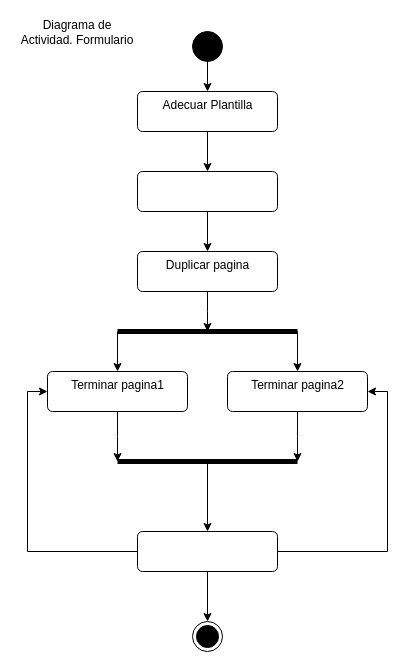
Image size: 413x669. Some labels were removed from this diagram. The centre of each missing label's shape, as x and y in pixels:
"Diseñar paginas con formulario" belongs at point 207,191.
"Probar pagina" belongs at point 207,551.
